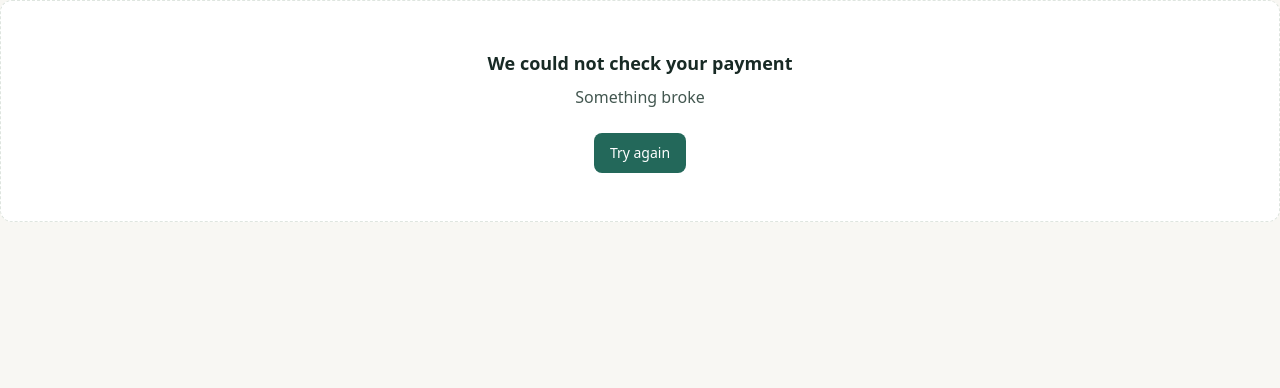
the page the payment provider sends the user back to › offers a retry when the check itself fails
Check: the heading "We could not check your payment" is shown, box [488,51,792,75]
Step 1. Click the button "Try again" → (640, 153), box [594,133,686,173]
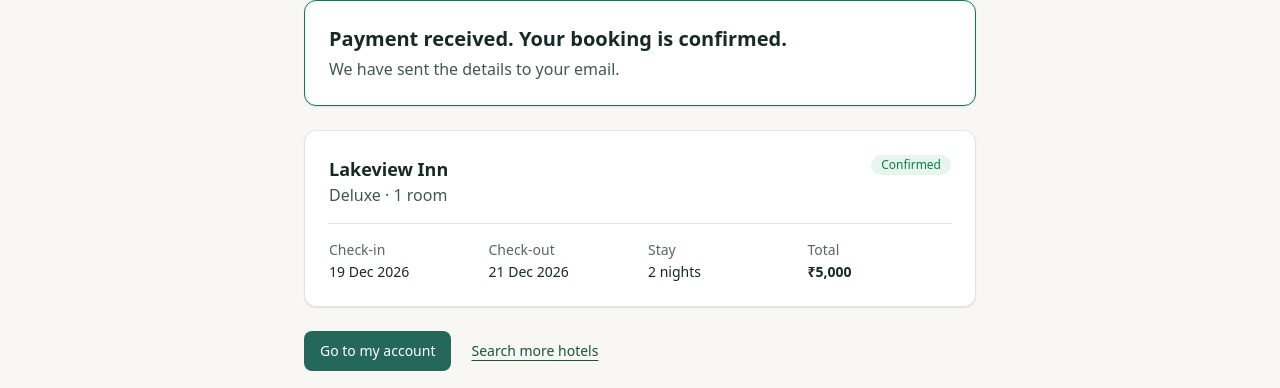
Check: the heading "Payment received. Your booking is confirmed." is shown, box [329,25,787,52]
